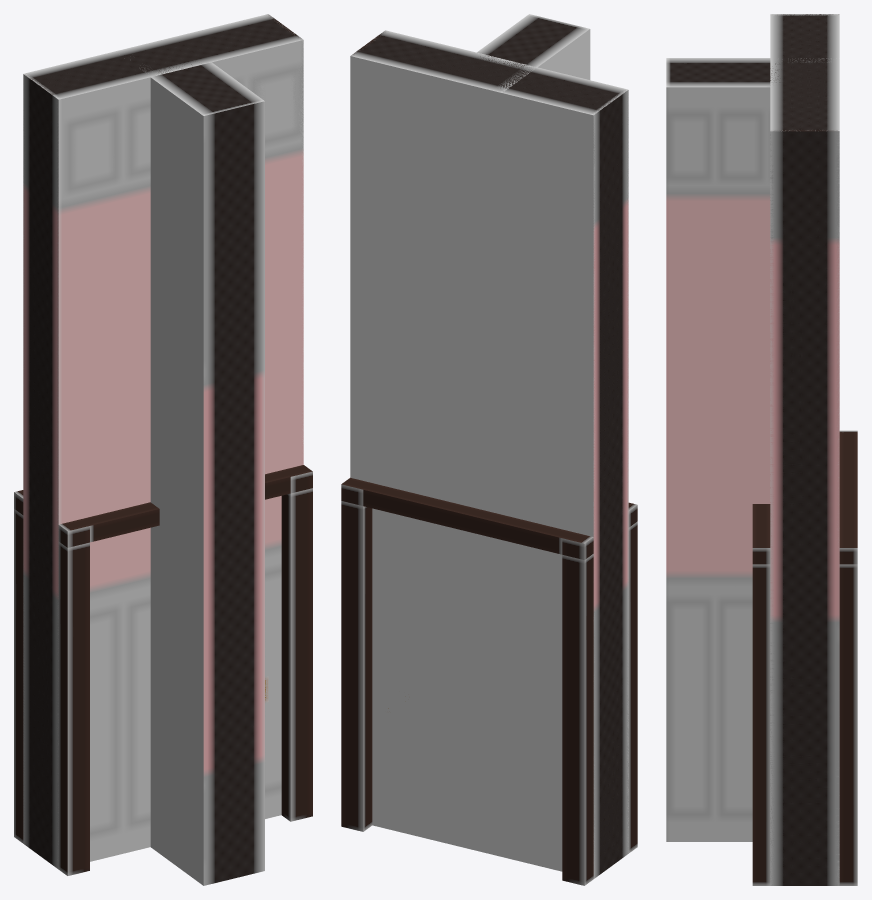
The model's file is House_Tile_Set.fbx.
3 renders of one model, left to right at view 1: azimuth 30°, elevation 25°; view 2: azimuth 150°, elevation 25°; view 3: azimuth 270°, elevation 25°, orthographic. The views are drawn at different scales.
Visible parts, largest first — view 1: Wall, Wall_Corner, DoorWay; view 2: Wall, DoorWay, Wall_Corner; view 3: Wall_Corner, Wall, DoorWay.
Boxes of the visible parts, x1=… form: Wall: x1=23, y1=14, x2=303, y2=869; Wall_Corner: x1=117, y1=14, x2=303, y2=885; DoorWay: x1=14, y1=14, x2=312, y2=875; Wall: x1=350, y1=30, x2=628, y2=878; DoorWay: x1=341, y1=32, x2=637, y2=885; Wall_Corner: x1=350, y1=14, x2=590, y2=854; Wall_Corner: x1=666, y1=58, x2=839, y2=841; Wall: x1=770, y1=14, x2=839, y2=885; DoorWay: x1=752, y1=14, x2=857, y2=885.
Bounding box in the file's own units: 200 × 600 × 138.
